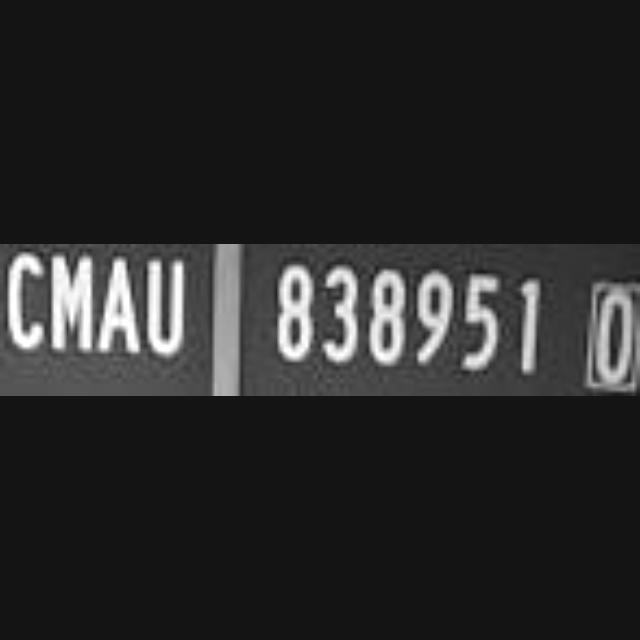0: (580, 274, 640, 396)
1: (512, 270, 550, 382)
3: (319, 248, 363, 374)
5: (459, 257, 508, 379)
8: (274, 254, 318, 370), (367, 258, 411, 372)
9: (410, 256, 458, 376)
a: (94, 244, 144, 360)
c: (0, 244, 50, 360)
m: (48, 244, 96, 352)
u: (146, 244, 192, 366)
